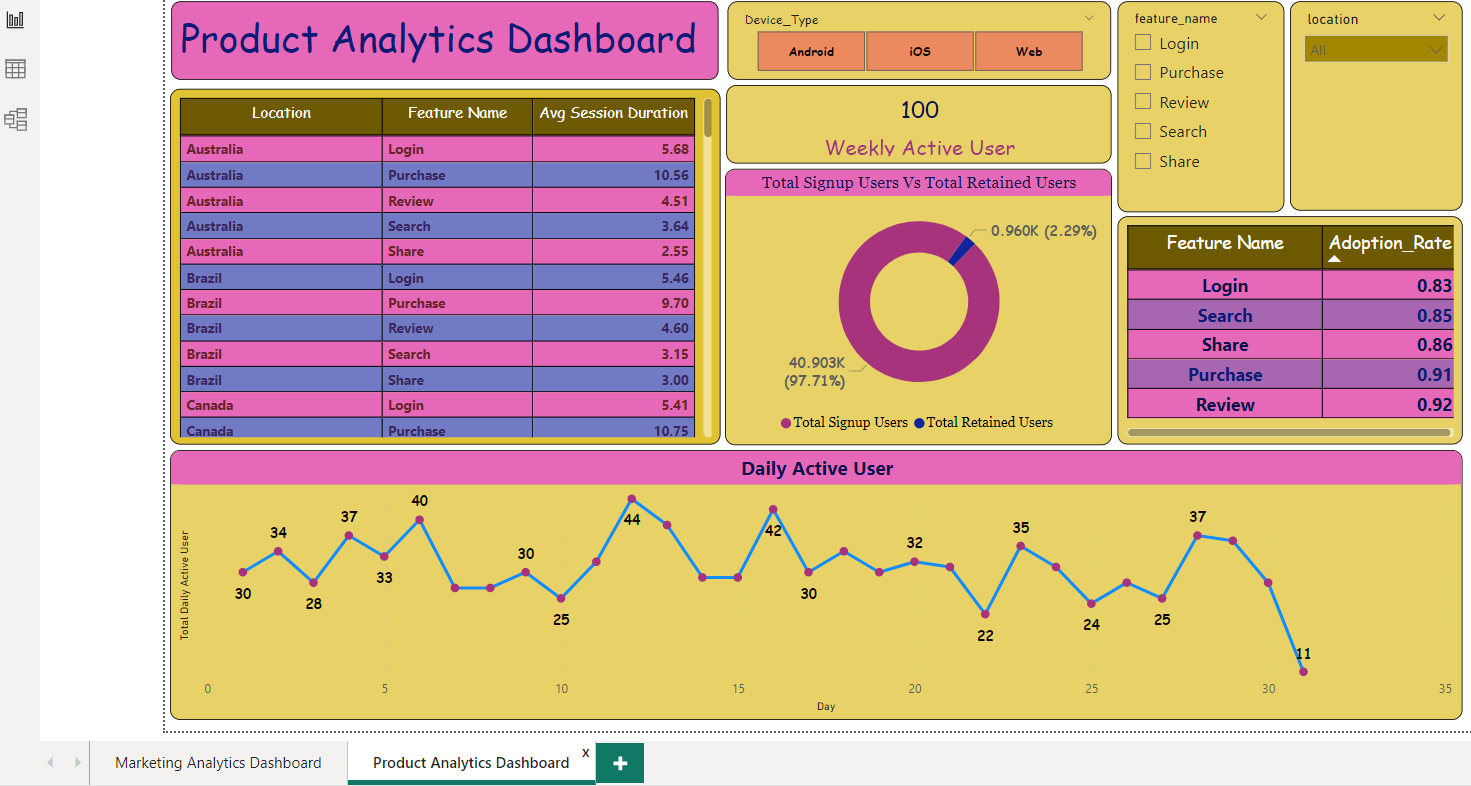

The dashboard page shown, as its layout file describes it:
{"tool":"powerbi","page":{"name":"Product Analytics Dashboard","canvas":[1280,720],"ordinal":1},"visuals":[{"type":"slicer","fields":{"Values":["Users.location"]},"box":[1100.2,6.1,168.7,205],"z":0},{"type":"slicer","fields":{"Values":["Feature Adoption rate.feature_name"]},"box":[931.5,6.1,163,206],"z":1000},{"type":"slicer","fields":{"Values":["Users.device_type"]},"box":[550.1,6.1,375,77],"z":2000},{"type":"donutChart","title":"Total Signup Users Vs Total Retained Users","fields":{"Y":["Sum(Retention Cohort Analysis.days_since_signup)","Sum(Retention Cohort Analysis.retained_users)"]},"box":[548,169.9,378,270],"z":3000},{"type":"tableEx","fields":{"Values":["Feature Adoption rate.feature_name","Feature Adoption rate.adoption_rate"]},"box":[931.5,216.4,337.4,223],"z":4000},{"type":"tableEx","fields":{"Values":["average session duration per feature and user location.location","average session duration per feature and user location.feature_name","average session duration per feature and user location.avg_session_duration"]},"box":[4.9,91.7,538,348],"z":5000},{"type":"lineChart","title":"Daily Active User","fields":{"Category":["Daily Active User-Real.event_date.Variation.Date Hierarchy.Month","Daily Active User-Real.event_date.Variation.Date Hierarchy.Day"],"Y":["Sum(Daily Active User-Real.daily_active_users)"]},"box":[4.9,445,1264,264],"z":7000},{"type":"card","fields":{"Values":["Sum(Weekly Active User.WAU)"]},"box":[549,88,377,77],"z":7001},{"type":"textbox","box":[6.1,6.1,535.4,77],"z":7002}]}

Visuals, with their boxes on the page's 1280x720 design canvas (x1, y1, x2, y2). These are canvas units, not pixel positions in the 1471x786 screenshot, which may show the page scaled, cropped or inside an application window:
slicer - Users.location: detection(1100, 6, 1269, 211)
slicer - Feature Adoption rate.feature_name: detection(932, 6, 1094, 212)
slicer - Users.device_type: detection(550, 6, 925, 83)
"Total Signup Users Vs Total Retained Users" donutChart: detection(548, 170, 926, 440)
tableEx - Feature Adoption rate.feature_name x Feature Adoption rate.adoption_rate: detection(932, 216, 1269, 439)
tableEx - average session duration per feature and user location.location x average session duration per feature and user location.feature_name: detection(5, 92, 543, 440)
"Daily Active User" lineChart: detection(5, 445, 1269, 709)
card - Sum(Weekly Active User.WAU): detection(549, 88, 926, 165)
textbox: detection(6, 6, 542, 83)
